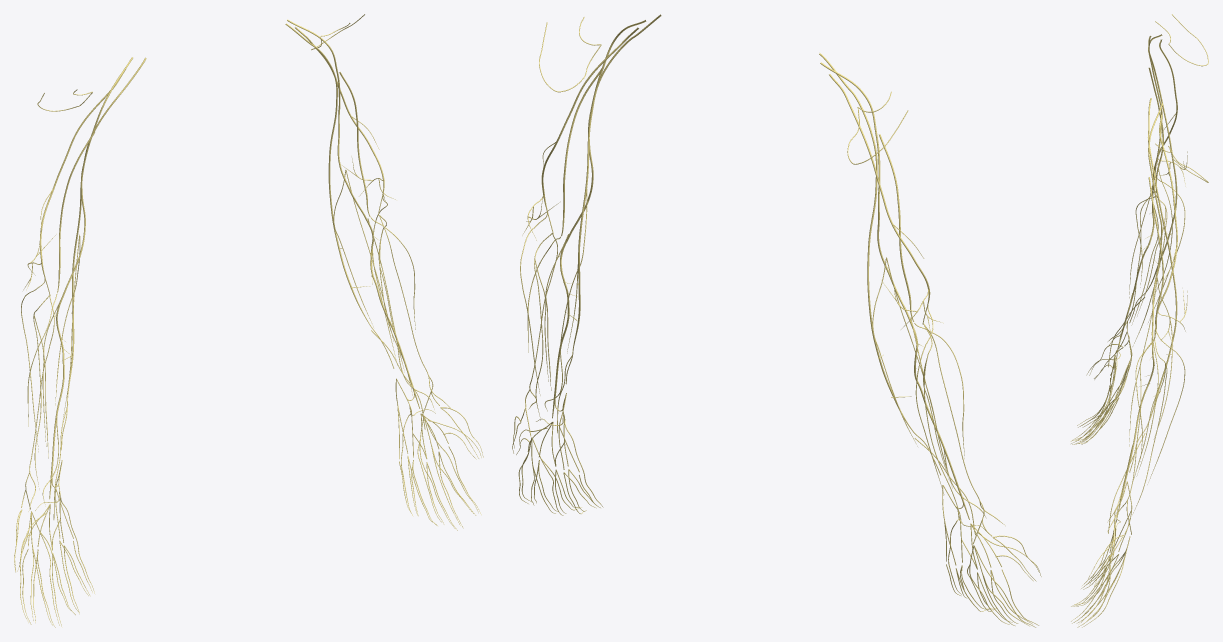
Rendered from nerfs-membre-sup.hi.glb.
The picture shows the model from 3 angles, left to right: view 1: azimuth 30°, elevation 25°; view 2: azimuth 150°, elevation 25°; view 3: azimuth 270°, elevation 25°; orthographic projection. The views are drawn at different scales.
Parts seen in each view (by area): view 1: ZA-median-nerve-d, ZA-median-nerve-g, ZA-dorsal-digital-branches-of-radial-nerve-g, ZA-ulnar-nerve-g, ZA-dorsal-digital-branches-of-radial-nerve-d, ZA-ulnar-nerve-d; view 2: ZA-median-nerve-d, ZA-ulnar-nerve-d, ZA-ulnar-nerve-g, ZA-median-nerve-g, ZA-dorsal-digital-branches-of-radial-nerve-d; view 3: ZA-median-nerve-g, ZA-ulnar-nerve-g, ZA-dorsal-digital-branches-of-radial-nerve-g, ZA-median-nerve-d, ZA-ulnar-nerve-d, ZA-proper-palmar-digital-branches-of-median-nerve-g, ZA-radial-nerve-g, ZA-dorsal-digital-branches-of-radial-nerve-d, ZA-superficial-branch-of-radial-nerve-g, ZA-proper-palmar-digital-branches-of-median-nerve-d, ZA-musculocutaneous-nerve-g, ZA-radial-nerve-d (+5 smaller).
Boxes of the visible parts, <box> form: ZA-median-nerve-d: <box>49,57,132,499</box>; ZA-median-nerve-g: <box>287,19,419,408</box>; ZA-dorsal-digital-branches-of-radial-nerve-g: <box>417,407,483,528</box>; ZA-ulnar-nerve-g: <box>285,23,394,368</box>; ZA-dorsal-digital-branches-of-radial-nerve-d: <box>14,509,70,625</box>; ZA-ulnar-nerve-d: <box>61,57,146,449</box>; ZA-median-nerve-d: <box>820,62,969,519</box>; ZA-ulnar-nerve-d: <box>819,53,940,475</box>; ZA-ulnar-nerve-g: <box>565,14,661,384</box>; ZA-median-nerve-g: <box>552,20,646,418</box>; ZA-dorsal-digital-branches-of-radial-nerve-d: <box>967,535,1041,627</box>; ZA-median-nerve-g: <box>1117,103,1162,517</box>; ZA-ulnar-nerve-g: <box>1129,98,1177,472</box>; ZA-dorsal-digital-branches-of-radial-nerve-g: <box>1075,535,1130,627</box>; ZA-median-nerve-d: <box>1117,34,1162,348</box>; ZA-ulnar-nerve-d: <box>1129,36,1177,323</box>; ZA-proper-palmar-digital-branches-of-median-nerve-g: <box>1071,531,1114,627</box>; ZA-radial-nerve-g: <box>1154,114,1177,339</box>; ZA-dorsal-digital-branches-of-radial-nerve-d: <box>1075,344,1130,443</box>; ZA-superficial-branch-of-radial-nerve-g: <box>1107,339,1154,534</box>; ZA-proper-palmar-digital-branches-of-median-nerve-d: <box>1070,359,1113,443</box>; ZA-musculocutaneous-nerve-g: <box>1148,177,1163,335</box>; ZA-radial-nerve-d: <box>1154,39,1177,188</box>.
Bounding box in the file's own units: 0.645 × 0.6681 × 0.1799.
